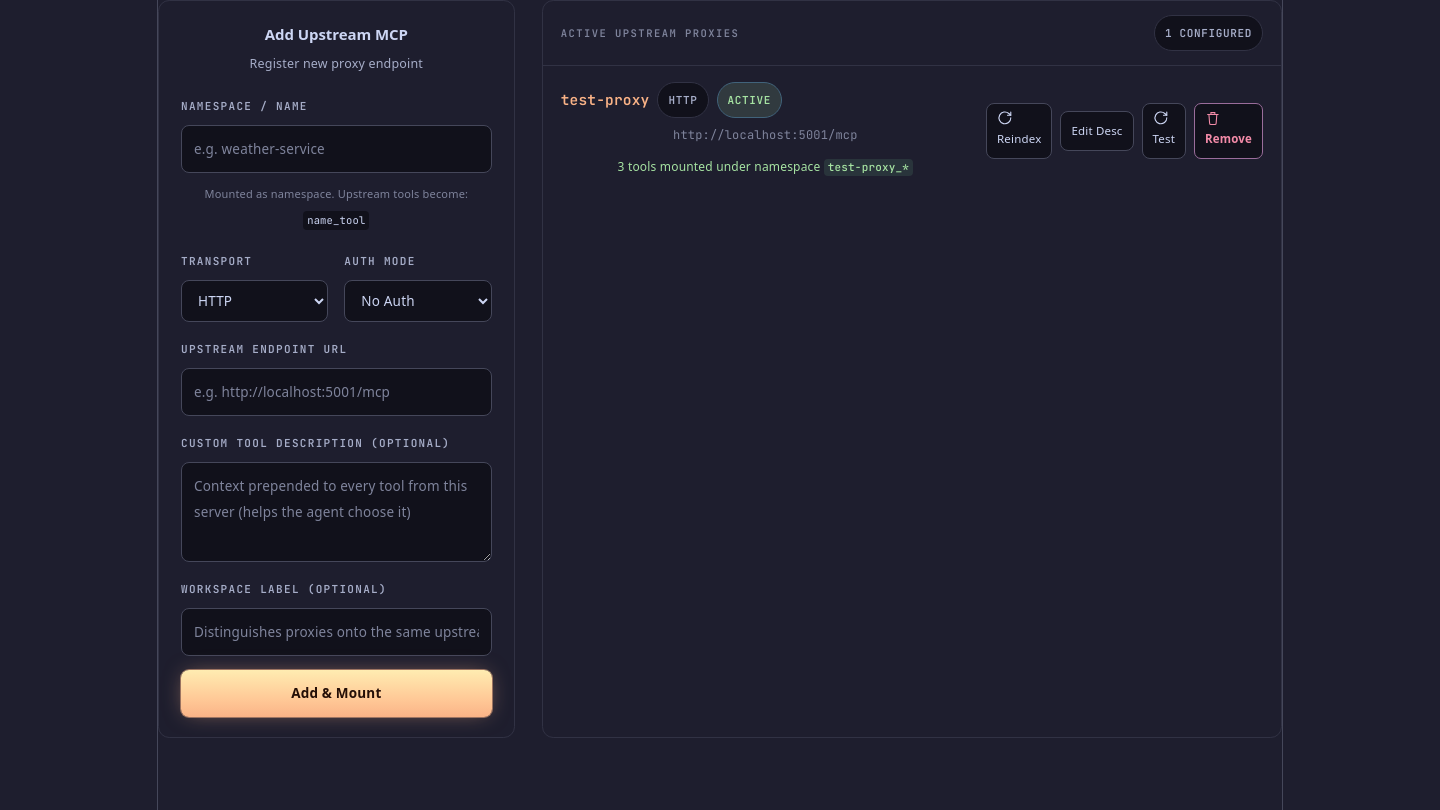
it: ProxyManager › shows error message if name or URL is missing on submit
Click the button "Add & Mount": (336, 693) left=181, top=670, right=492, bottom=716
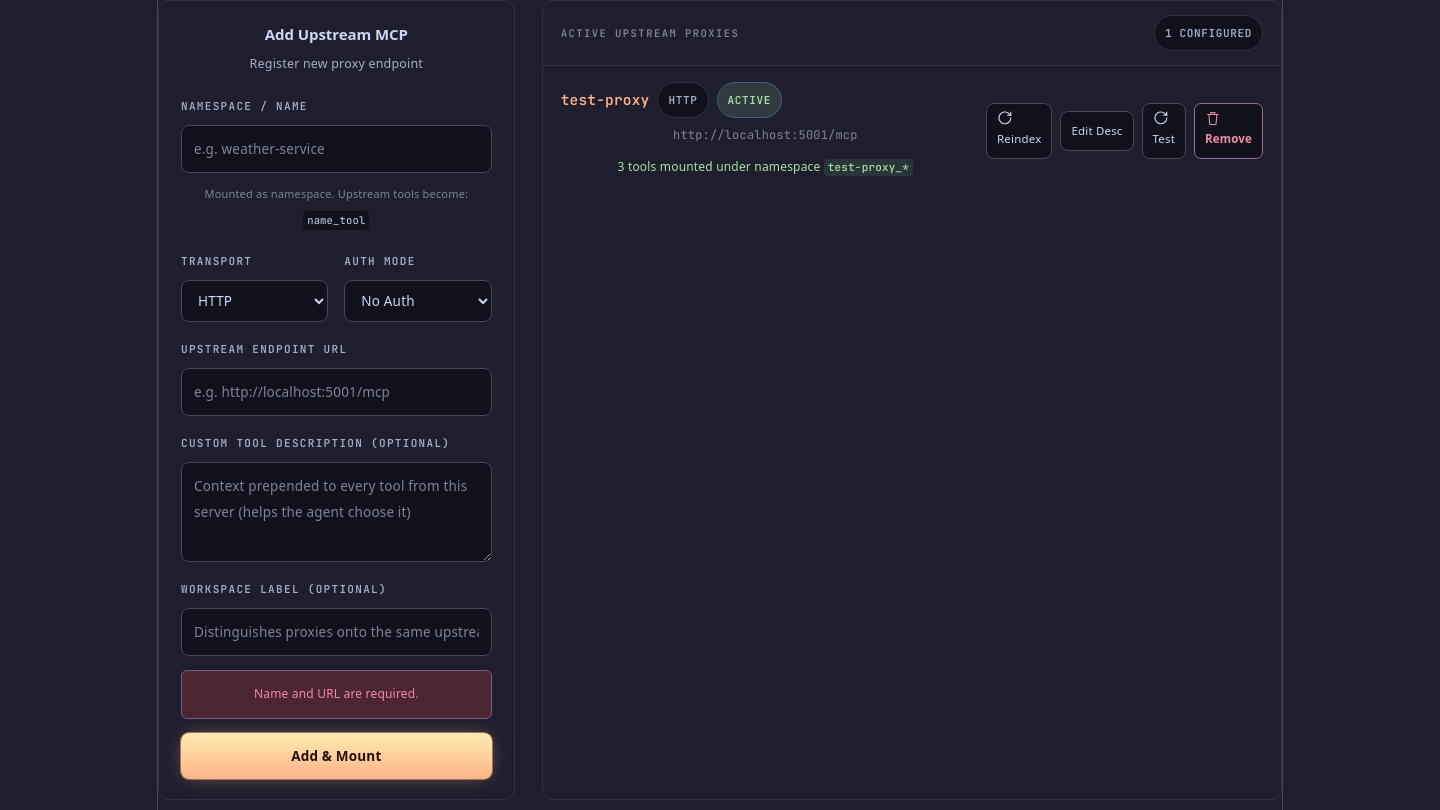
Expected: the text "Name and URL are required." is shown, left=181, top=670, right=492, bottom=718
